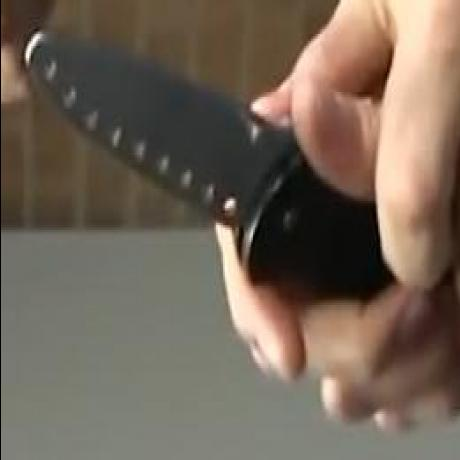1: (217, 0, 460, 429)
weapon: (22, 25, 380, 307)
